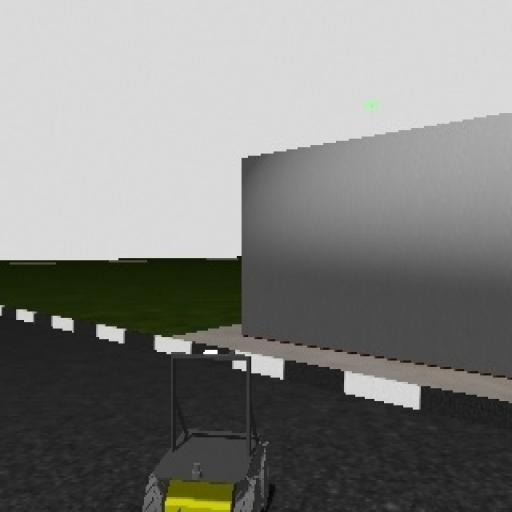huskya200: (140, 340, 278, 512)
